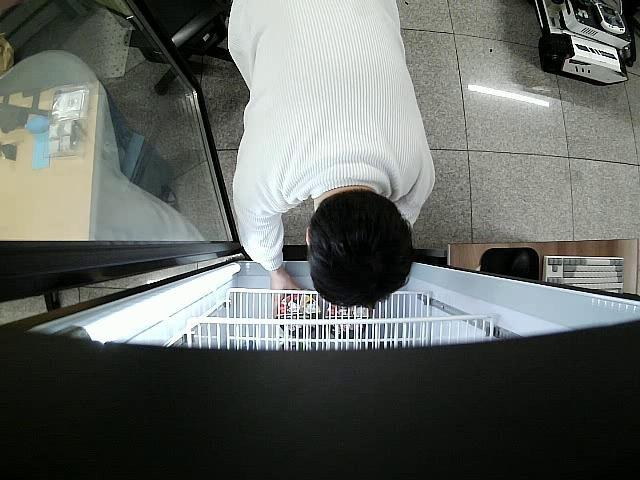07_buldak_L: (274, 296, 322, 333)
